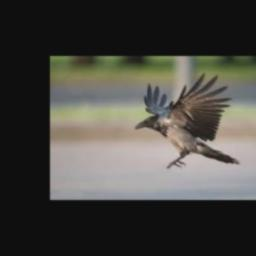Crow: (135, 72, 241, 168)
